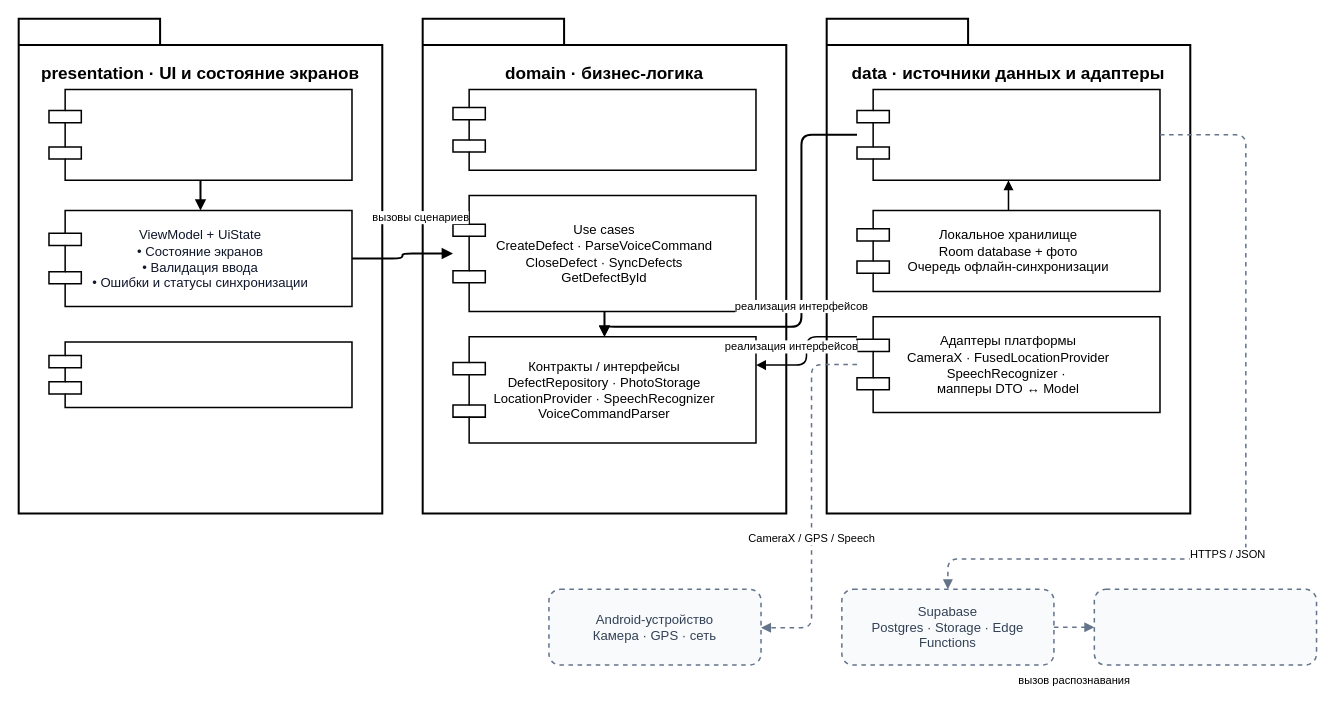
This 1334x703 diagram has some shape labels left out. The centre of each missing label's shape, as x and y in pixels:
Compose UI • Список дефектов • Создание / редактирование • Детали дефекта: point (200, 134)
Внешний STT API вызывается через Edge Function: point (1205, 626)
Модели домена Defect · ParsedCommand DefectStatus · SyncStatus: point (604, 129)
Навигация и DI Hilt · Android app entry point: point (200, 374)
Реализации репозиториев RoomDefectRepository SupabaseDefectRepository / API DTO: point (1008, 134)
